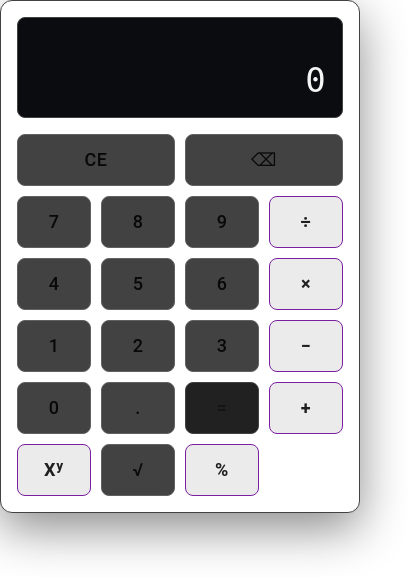
it: Calculator › performs square root on the first operand
The image size is (408, 577).
Click the button "1".
click(54, 346)  # box left=17, top=320, right=91, bottom=372
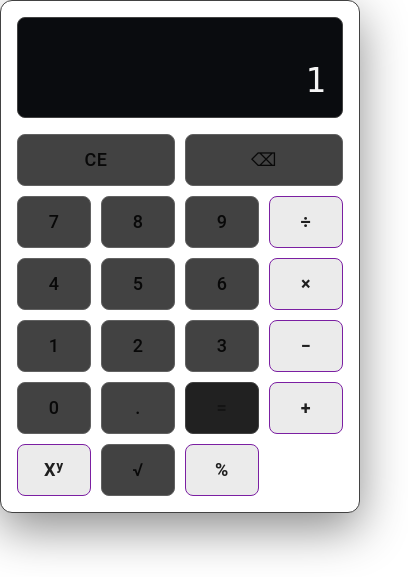
Click the button "6".
click(222, 284)  # box left=185, top=258, right=259, bottom=310
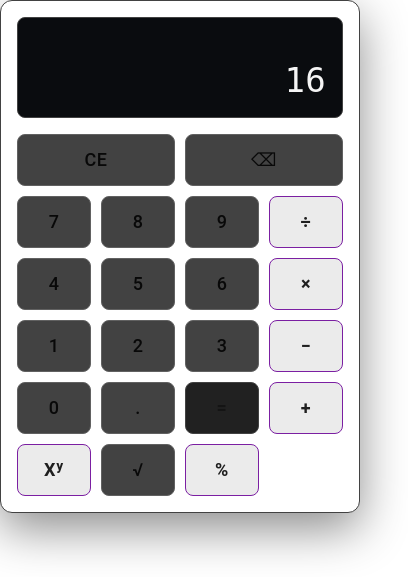
Click the button named "Square root".
click(138, 470)  # box left=101, top=444, right=175, bottom=496
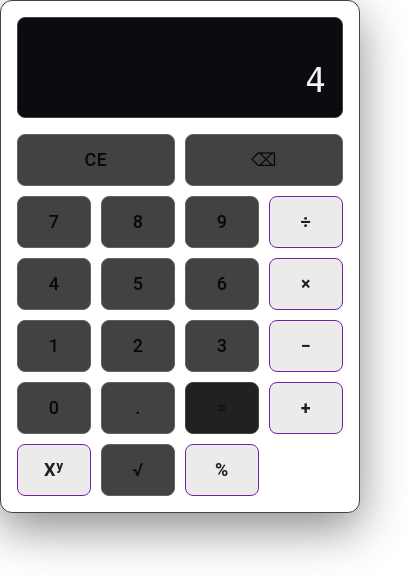
Now the heading with test id "calculator-display" reads "4", box left=305, top=60, right=326, bottom=100
